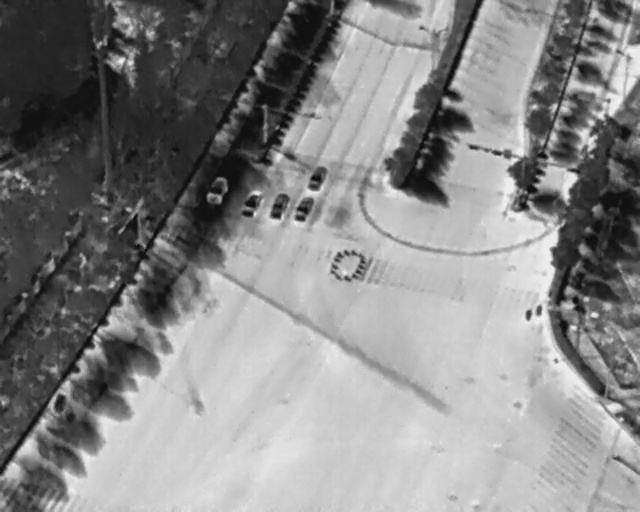Car: (238, 185, 267, 220), (205, 173, 232, 207), (304, 163, 330, 194), (267, 191, 292, 222), (293, 193, 317, 224)
